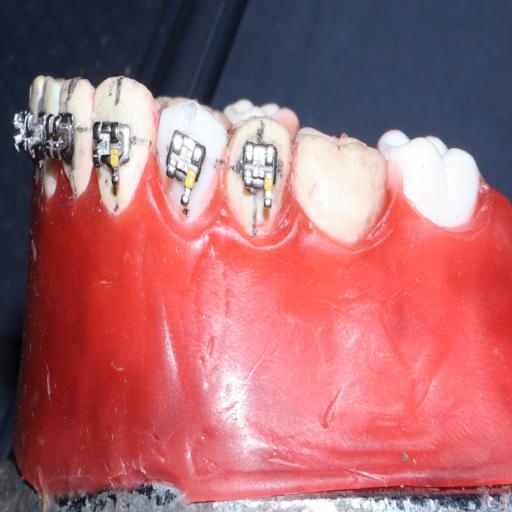correct_brace: (154, 100, 228, 224)
incorrect_brace: (165, 126, 205, 182)
